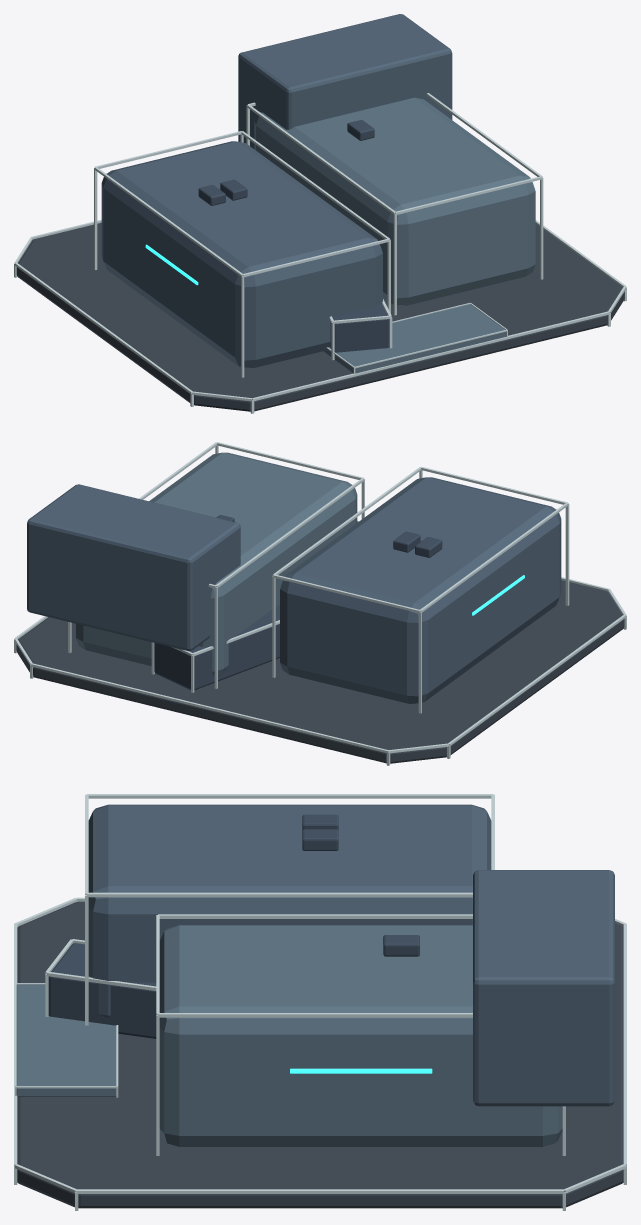
File: skill-python-v1.glb
3 views of the same model, one above another, from view 1: azimuth 30°, elevation 25°; view 2: azimuth 150°, elevation 25°; view 3: azimuth 270°, elevation 25° (orthographic). The views are drawn at different scales.
Visible parts, largest first — view 1: skill-python-v1__mesh-structure-dark__001, skill-python-v1__mesh-structure-mid__001, skill-python-v1__mesh-ground__001, skill-python-v1__technical-lines__001, skill-python-v1__mesh-roof__001; view 2: skill-python-v1__mesh-structure-dark__001, skill-python-v1__mesh-ground__001, skill-python-v1__mesh-structure-mid__001, skill-python-v1__technical-lines__001, skill-python-v1__mesh-roof__001; view 3: skill-python-v1__mesh-structure-dark__001, skill-python-v1__mesh-structure-mid__001, skill-python-v1__mesh-ground__001, skill-python-v1__technical-lines__001, skill-python-v1__mesh-roof__001, skill-python-v1__mesh-accent__001.
Boxes of the visible parts, x1,y1,x2,y2 form: skill-python-v1__mesh-structure-dark__001: (101, 14, 452, 368); skill-python-v1__mesh-structure-mid__001: (254, 97, 535, 373); skill-python-v1__mesh-ground__001: (16, 223, 624, 411); skill-python-v1__technical-lines__001: (14, 93, 626, 413); skill-python-v1__mesh-roof__001: (198, 120, 388, 352); skill-python-v1__mesh-structure-dark__001: (27, 477, 561, 703); skill-python-v1__mesh-ground__001: (16, 580, 624, 763); skill-python-v1__mesh-structure-mid__001: (76, 452, 357, 676); skill-python-v1__technical-lines__001: (14, 442, 626, 765); skill-python-v1__mesh-roof__001: (154, 515, 442, 690); skill-python-v1__mesh-structure-dark__001: (88, 804, 614, 1106); skill-python-v1__mesh-structure-mid__001: (16, 925, 562, 1146); skill-python-v1__mesh-ground__001: (17, 901, 623, 1208); skill-python-v1__technical-lines__001: (14, 794, 626, 1210); skill-python-v1__mesh-roof__001: (48, 814, 419, 1038); skill-python-v1__mesh-accent__001: (290, 1068, 432, 1073).
Bounding box in the file's own units: 34.17 × 11.5 × 30.17.
